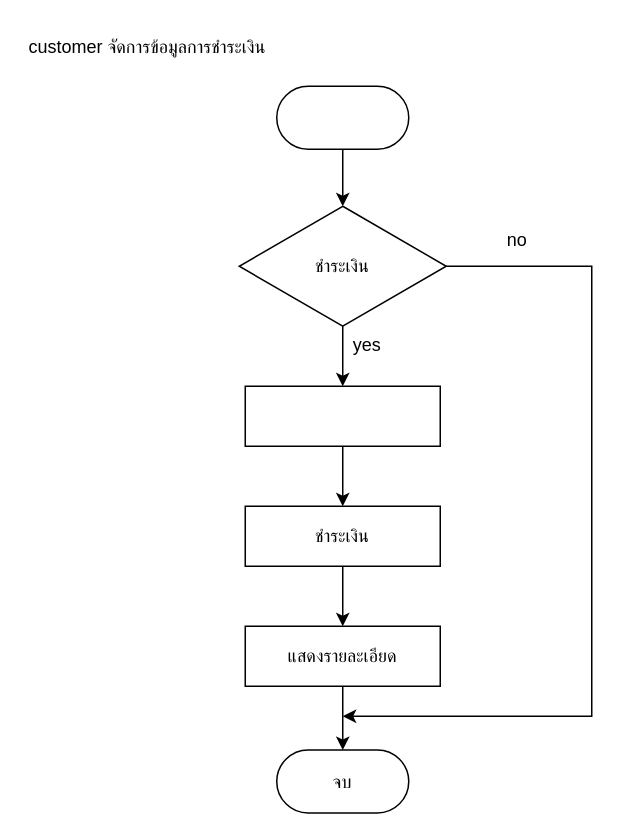
The diagram is 630 pixels wide and 839 high, and some of its shapes have lost their labels. The shapes that lost their labels are listed below. From the top down, each one's box as (x1, y1, x2, y2) in pixels, then its label:
(275, 85, 409, 149): เริ่มต้น
(244, 385, 440, 446): ตรวจสอบรายการชำระเงิน
